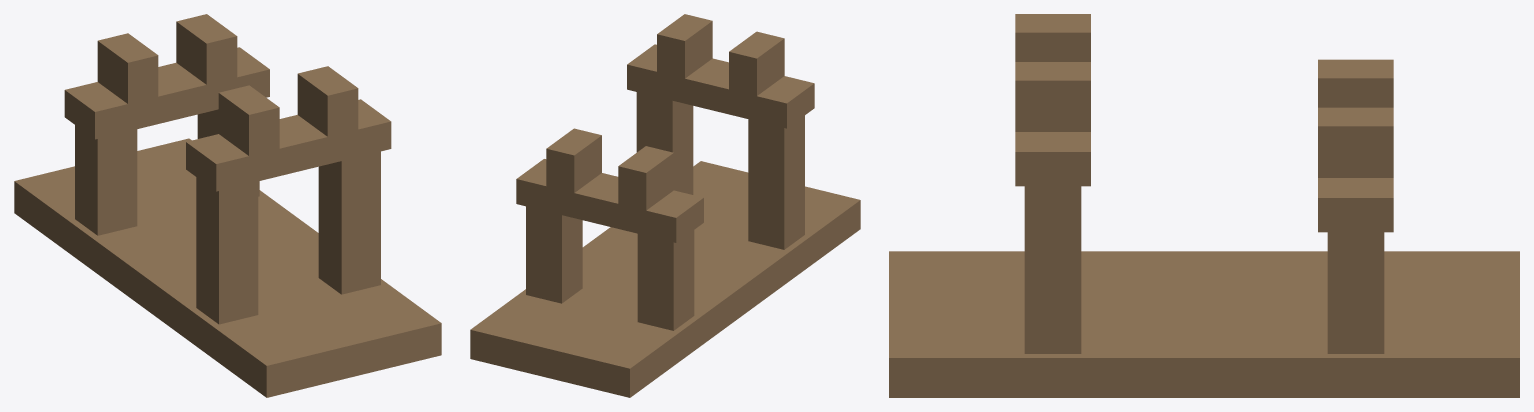
File: CannonStock.fbx
3 views of the same model, side by side, from view 1: azimuth 30°, elevation 25°; view 2: azimuth 150°, elevation 25°; view 3: azimuth 270°, elevation 25° (orthographic). The views are drawn at different scales.
Visible parts, largest first — view 1: cannon_stock; view 2: cannon_stock; view 3: cannon_stock.
Part boxes in pixels (left/top/right/bottom): cannon_stock: left=14, top=14, right=441, bottom=397; cannon_stock: left=470, top=14, right=860, bottom=397; cannon_stock: left=889, top=14, right=1519, bottom=397.
Size of the model in its own units: 0.5 by 0.65 by 1.25.
